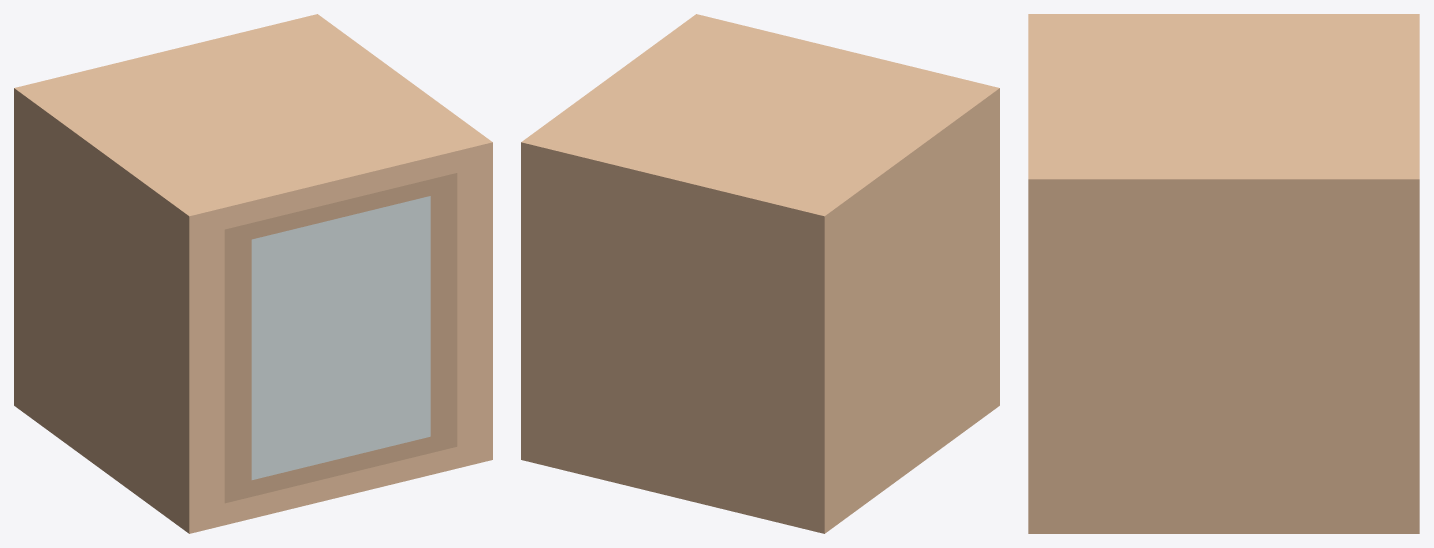
The model's file is kn-bathroom-cabinet.glb.
3 renders of one model, left to right at view 1: azimuth 30°, elevation 25°; view 2: azimuth 150°, elevation 25°; view 3: azimuth 270°, elevation 25°, orthographic. The views are drawn at different scales.
Visible parts, largest first — view 1: bathroomCabinet(Clone), door; view 2: bathroomCabinet(Clone); view 3: bathroomCabinet(Clone).
Part boxes in pixels (x1=…): bathroomCabinet(Clone): x1=14, y1=14, x2=492, y2=533; door: x1=224, y1=173, x2=457, y2=503; bathroomCabinet(Clone): x1=521, y1=14, x2=999, y2=533; bathroomCabinet(Clone): x1=1028, y1=14, x2=1419, y2=533.
Size of the model in its own units: 1 by 1 by 1.
